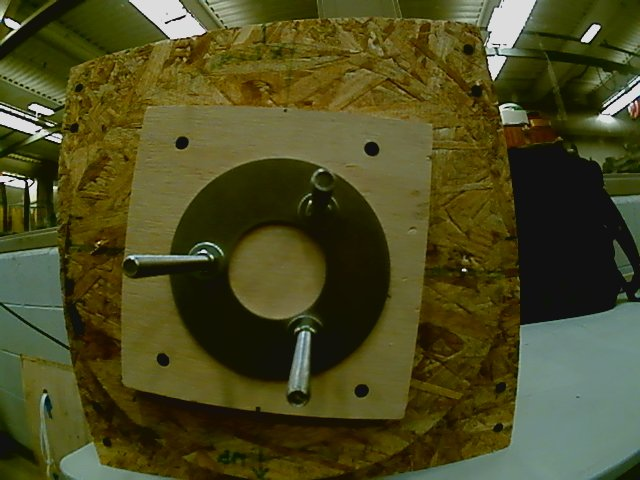bolt: (309, 167, 343, 198), (118, 254, 146, 281), (283, 387, 310, 407)
